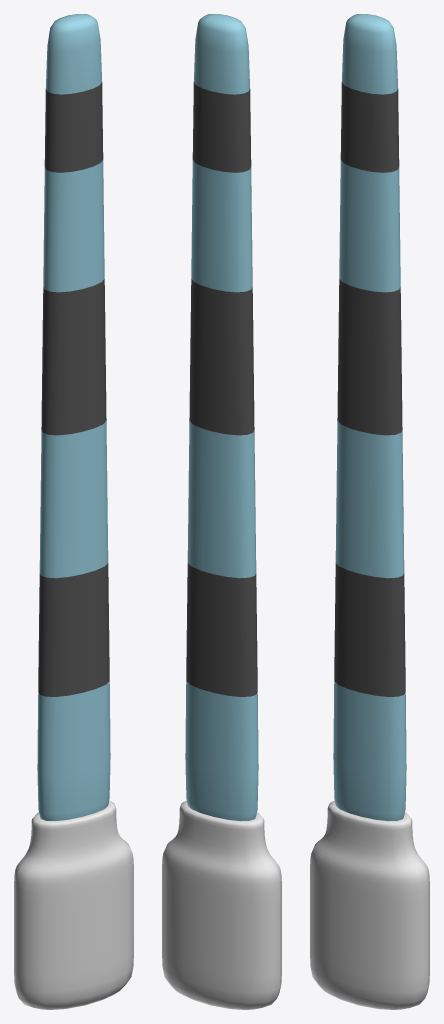
File: Cleaning_Stick.fbx
3 views of the same model, side by side, from view 1: azimuth 30°, elevation 25°; view 2: azimuth 150°, elevation 25°; view 3: azimuth 330°, elevation 25° (orthographic).
Parts seen in each view (by area): view 1: Cleaning_Stick; view 2: Cleaning_Stick; view 3: Cleaning_Stick.
Part boxes in pixels (left/top/right/bottom): Cleaning_Stick: left=14, top=14, right=133, bottom=1009; Cleaning_Stick: left=162, top=14, right=281, bottom=1009; Cleaning_Stick: left=310, top=14, right=429, bottom=1009.
Size of the model in its own units: 98.1 by 802 by 47.45.
